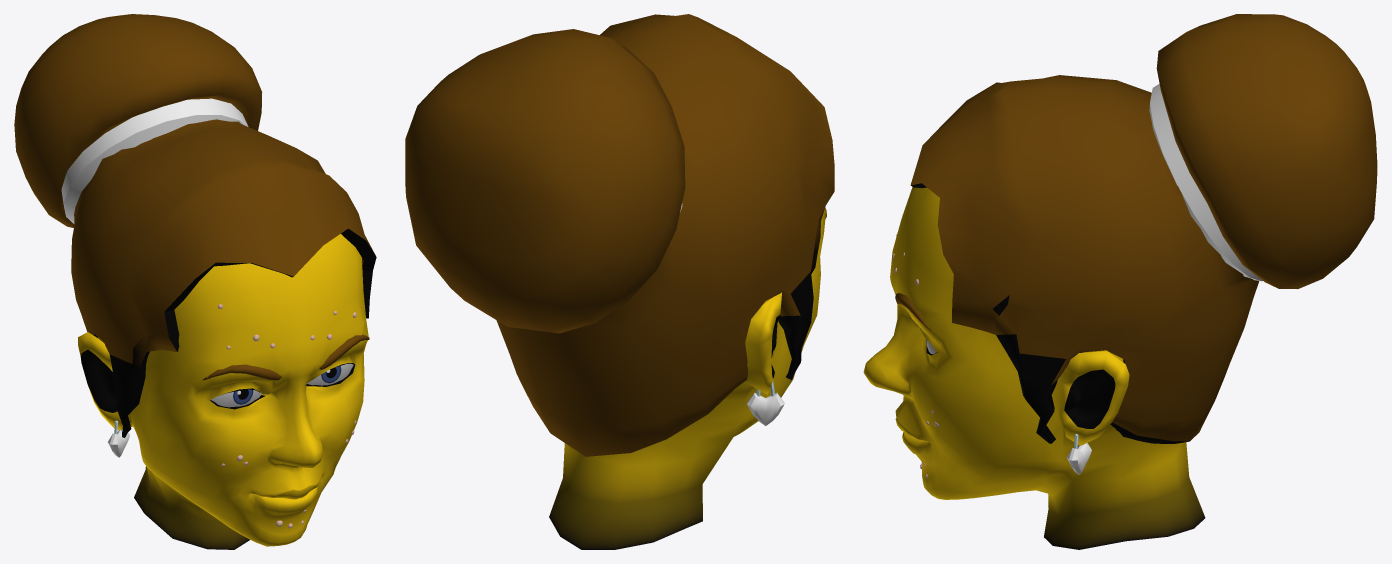
The model's file is _ace (1).fbx.
3 views of the same model, side by side, from view 1: azimuth 30°, elevation 25°; view 2: azimuth 150°, elevation 25°; view 3: azimuth 270°, elevation 25° (orthographic). The views are drawn at different scales.
Visible parts, largest first — view 1: hair, polySurface4, hair_band, EB_R, eye_ball_R, eye_ball_L, EB_L; view 2: hair, polySurface4, ear_ring_R; view 3: hair, polySurface4, hair_band.
Part boxes in pixels (<box>): hair: <box>14,14,376,437</box>; polySurface4: <box>78,234,368,549</box>; hair_band: <box>61,98,248,223</box>; EB_R: <box>202,364,281,380</box>; eye_ball_R: <box>211,389,261,407</box>; eye_ball_L: <box>306,363,353,385</box>; EB_L: <box>319,334,369,369</box>; hair: <box>405,14,834,456</box>; polySurface4: <box>549,209,825,549</box>; ear_ring_R: <box>747,381,784,425</box>; hair: <box>910,14,1377,443</box>; polySurface4: <box>863,187,1205,549</box>; hair_band: <box>1149,84,1262,281</box>.
Bounding box in the file's own units: 1.13 × 2.04 × 1.87.
